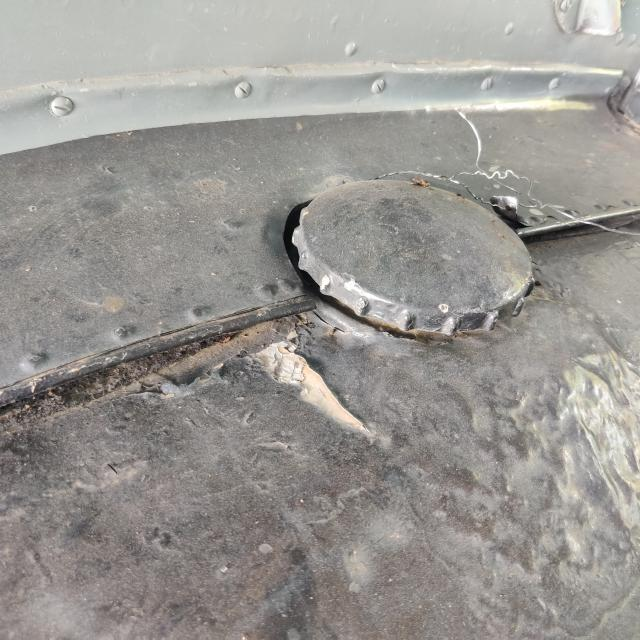paint-off: (249, 336, 382, 446)
